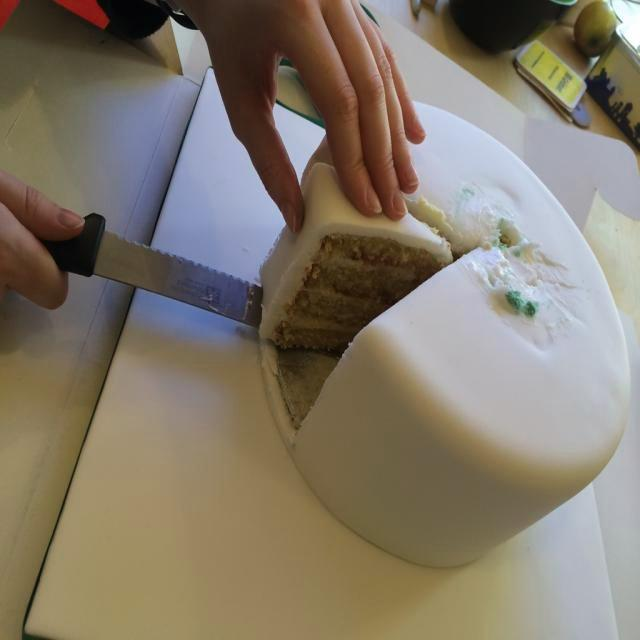Knife: (47, 217, 262, 329)
